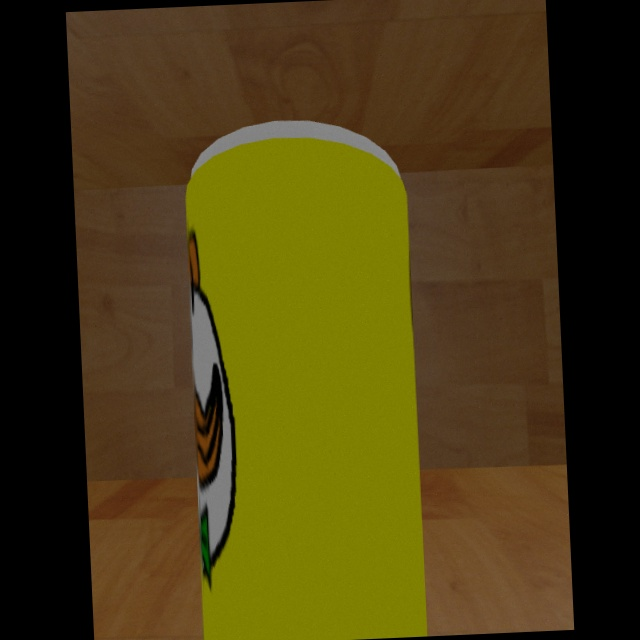chipsdose_gelb: (186, 121, 428, 640)
